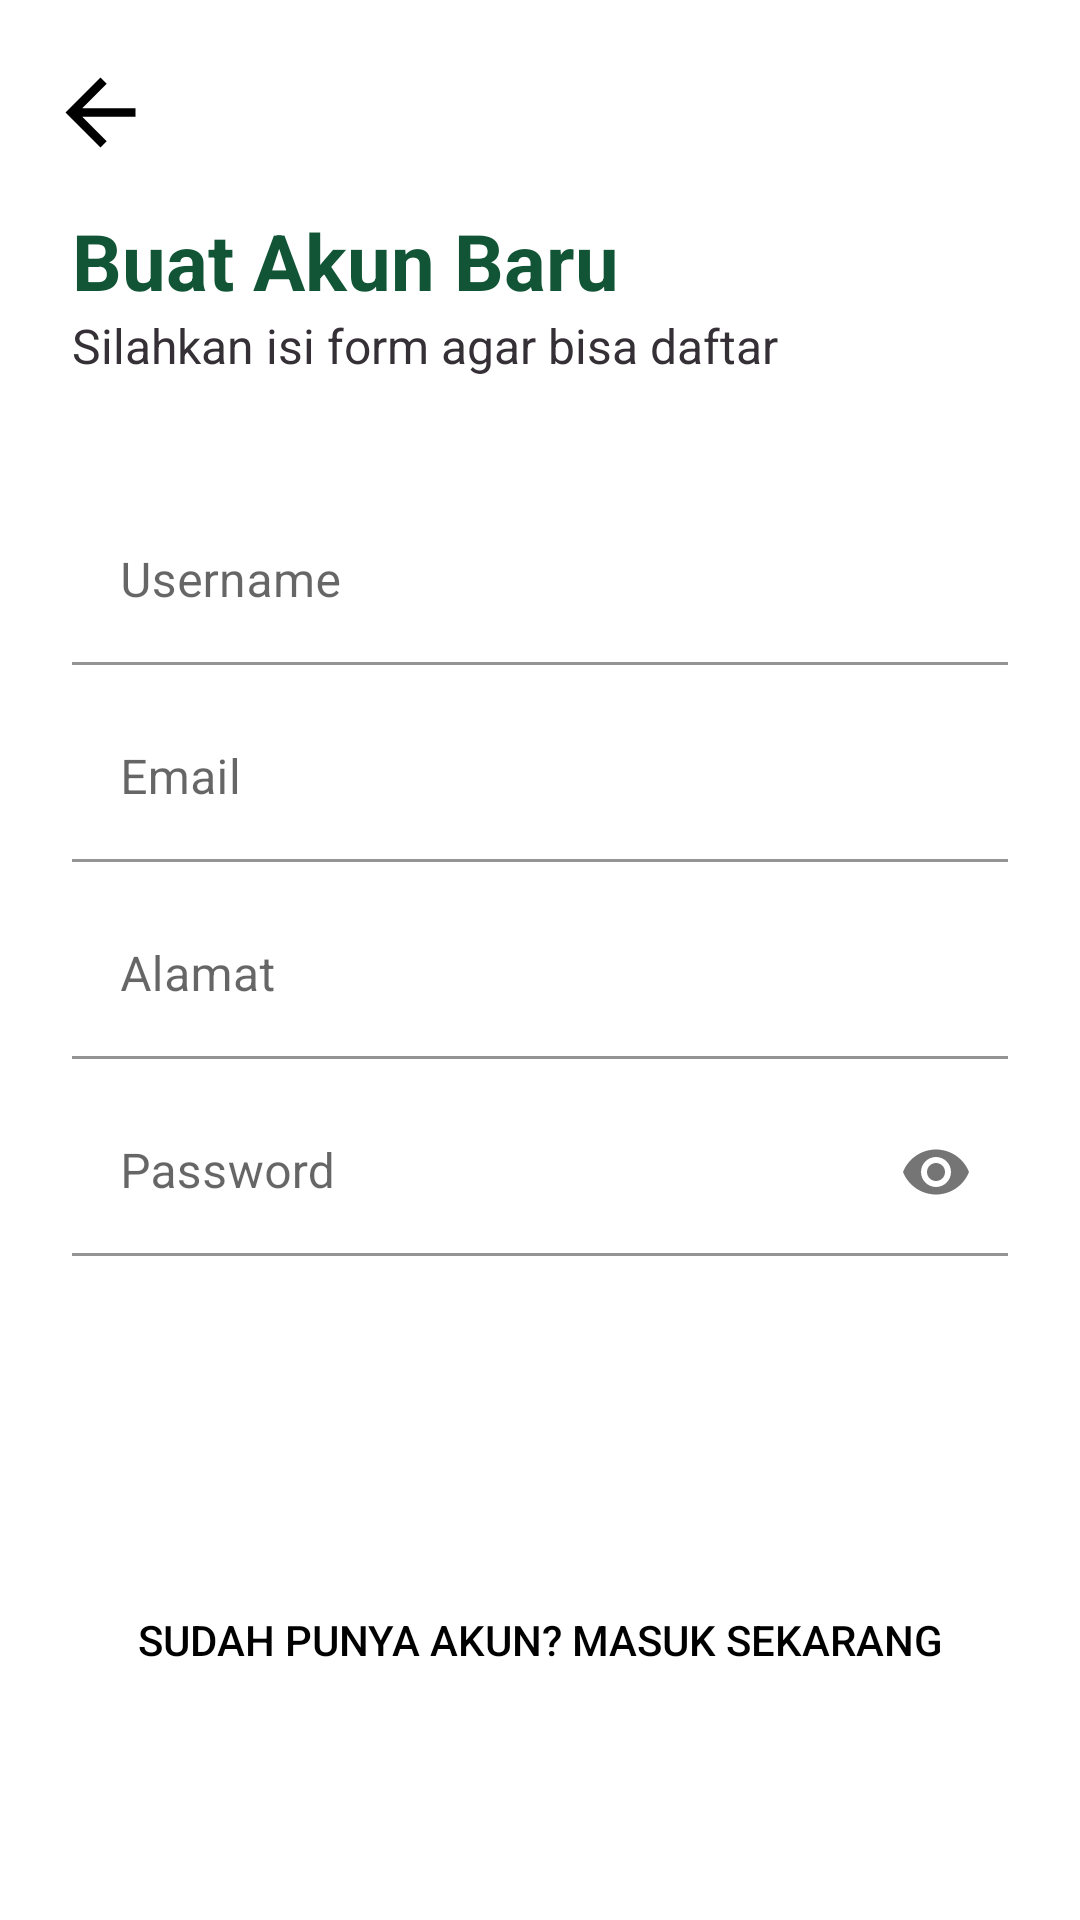

Point at icon controls on the screen. Image size 1080x1920, points as (x,y).
back: (100,112)
